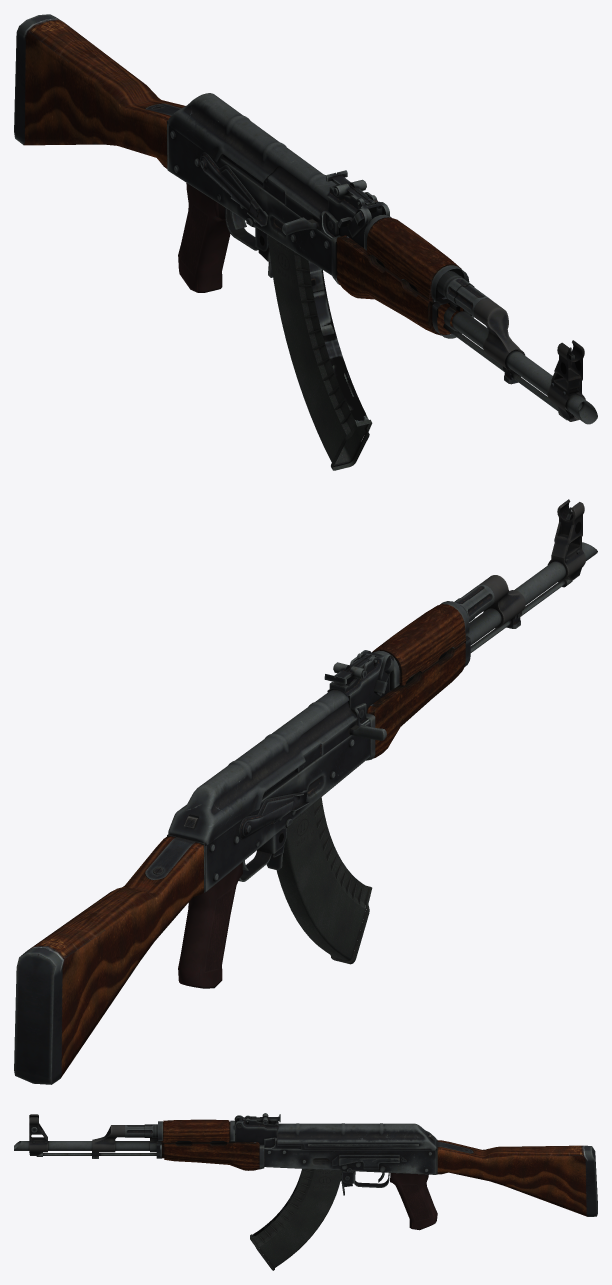
3 renders of one model, top to bottom at view 1: azimuth 30°, elevation 25°; view 2: azimuth 150°, elevation 25°; view 3: azimuth 270°, elevation 25°, orthographic. The views are drawn at different scales.
Visible parts, largest first — view 1: ak47; view 2: ak47; view 3: ak47.
Boxes of the visible parts, <box> form: ak47: <box>14,14,597,470</box>; ak47: <box>14,499,597,1084</box>; ak47: <box>14,1113,597,1270</box>.
Size of the model in its own units: 2.99 by 10.91 by 37.75.
1 material, 1 textured.
